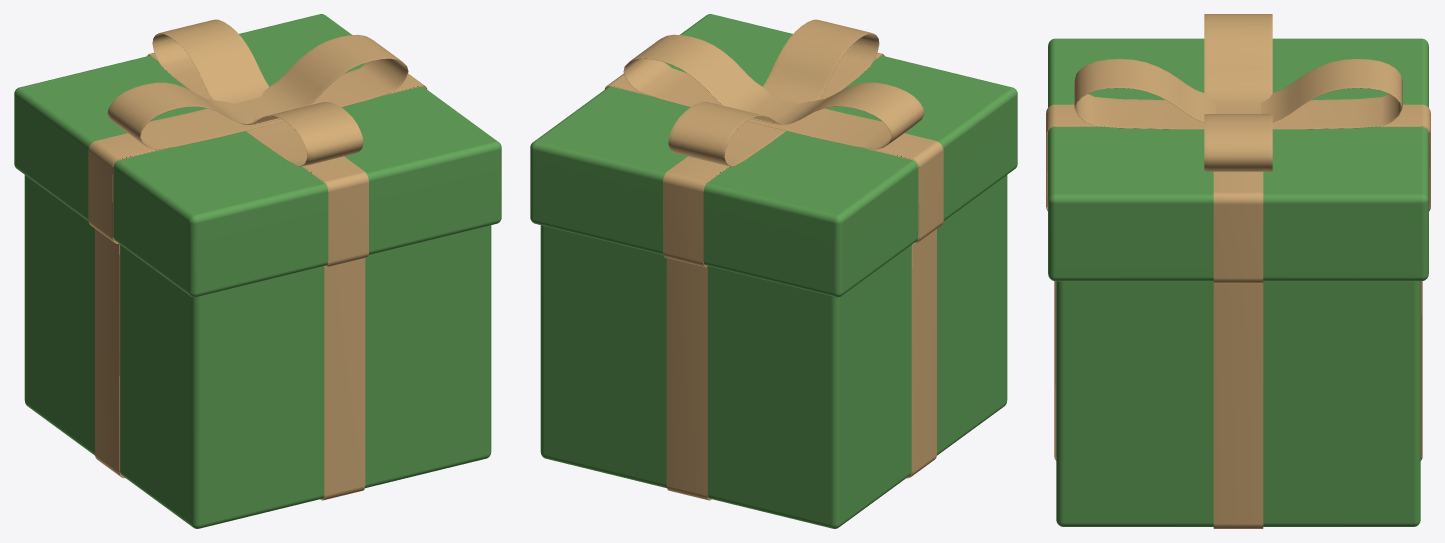
The model's file is BOXsanta02.FBX.
The picture shows the model from 3 angles, left to right: view 1: azimuth 30°, elevation 25°; view 2: azimuth 150°, elevation 25°; view 3: azimuth 270°, elevation 25°; orthographic projection. The views are drawn at different scales.
Parts seen in each view (by area): view 1: ChamferBox02, ChamferBox03; view 2: ChamferBox02, ChamferBox03; view 3: ChamferBox02, ChamferBox03.
Boxes of the visible parts, x1,y1,x2,y2 form: ChamferBox02: (14, 14, 501, 528); ChamferBox03: (88, 19, 427, 500); ChamferBox02: (530, 14, 1017, 528); ChamferBox03: (604, 19, 943, 500); ChamferBox02: (1048, 38, 1428, 526); ChamferBox03: (1046, 14, 1430, 528).
Size of the model in its own units: 4.52 by 4.95 by 4.52.
